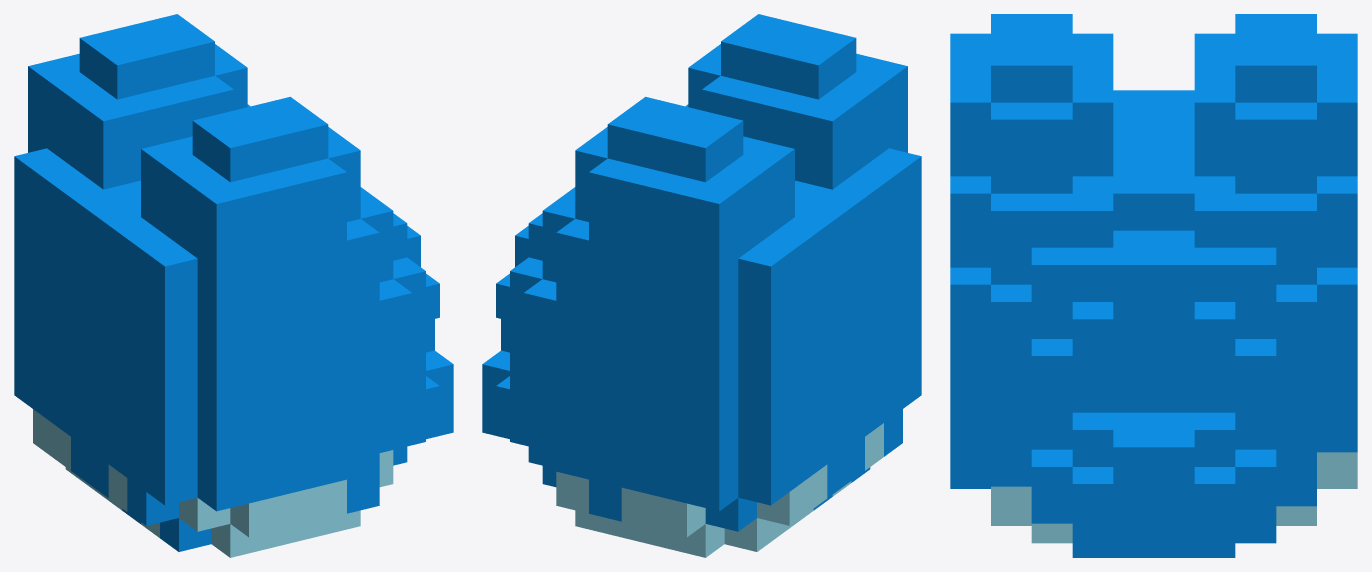
Rendered from cabeza_oso_azul.obj.
3 views of the same model, side by side, from view 1: azimuth 30°, elevation 25°; view 2: azimuth 150°, elevation 25°; view 3: azimuth 270°, elevation 25° (orthographic). The views are drawn at different scales.
Size of the model in its own units: 1 by 1.2 by 1.
Materials: 1 (1 with a texture image).
